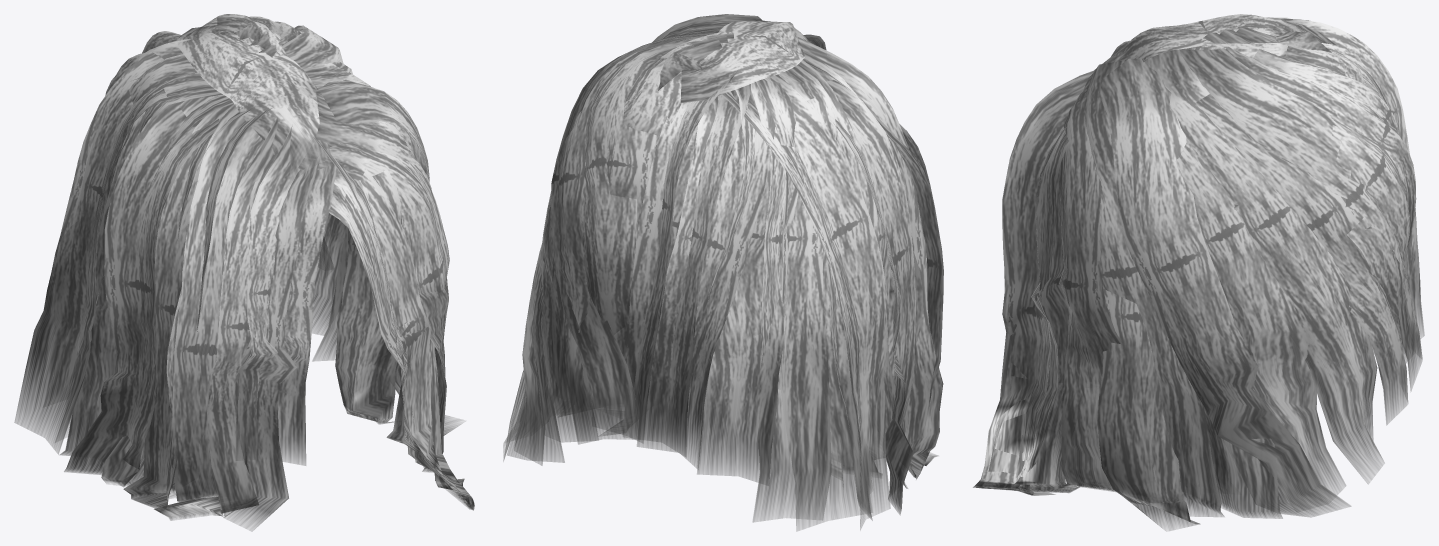
The model's file is daz_hair_island_princess.glb.
3 views of the same model, side by side, from view 1: azimuth 30°, elevation 25°; view 2: azimuth 150°, elevation 25°; view 3: azimuth 270°, elevation 25° (orthographic). The views are drawn at different scales.
Parts seen in each view (by area): view 1: daz_hair_island_princess; view 2: daz_hair_island_princess; view 3: daz_hair_island_princess.
Part boxes in pixels (x1,y1,x2,y2): daz_hair_island_princess: (14, 14, 474, 531); daz_hair_island_princess: (503, 14, 943, 531); daz_hair_island_princess: (973, 14, 1424, 531).
Bounding box in the file's own units: 0.2447 × 0.2576 × 0.2551.
Materials: 1 (1 with a texture image).
